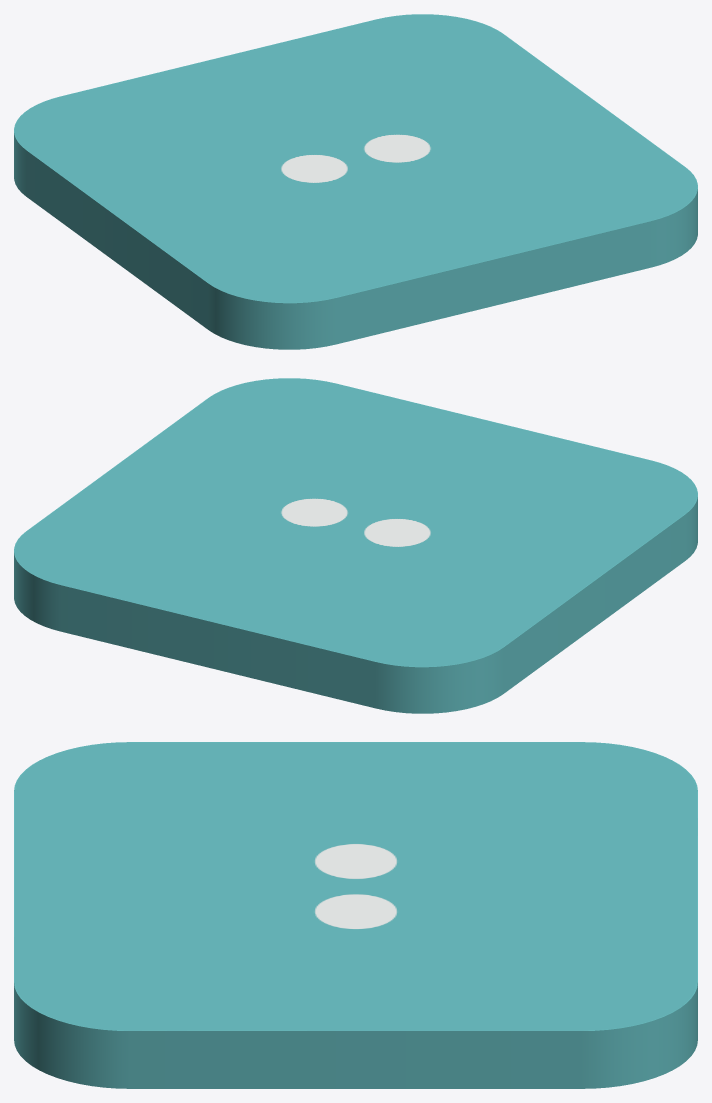
Rendered from back_square.glb.
3 renders of one model, top to bottom at view 1: azimuth 30°, elevation 25°; view 2: azimuth 150°, elevation 25°; view 3: azimuth 270°, elevation 25°, orthographic. The views are drawn at different scales.
Parts seen in each view (by area): view 1: back_square; view 2: back_square; view 3: back_square.
Boxes of the visible parts, bbox=[...] form: back_square: bbox=[14, 14, 697, 349]; back_square: bbox=[14, 378, 697, 713]; back_square: bbox=[14, 742, 697, 1088].
Size of the model in its own units: 0.0258 by 0.0024 by 0.0258.
Materials: 2 (1 with a texture image).
